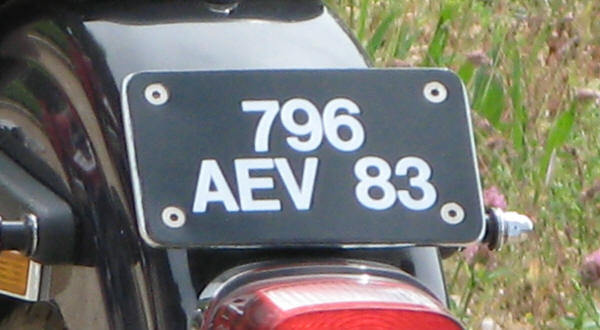license_plate: (129, 69, 485, 245)
